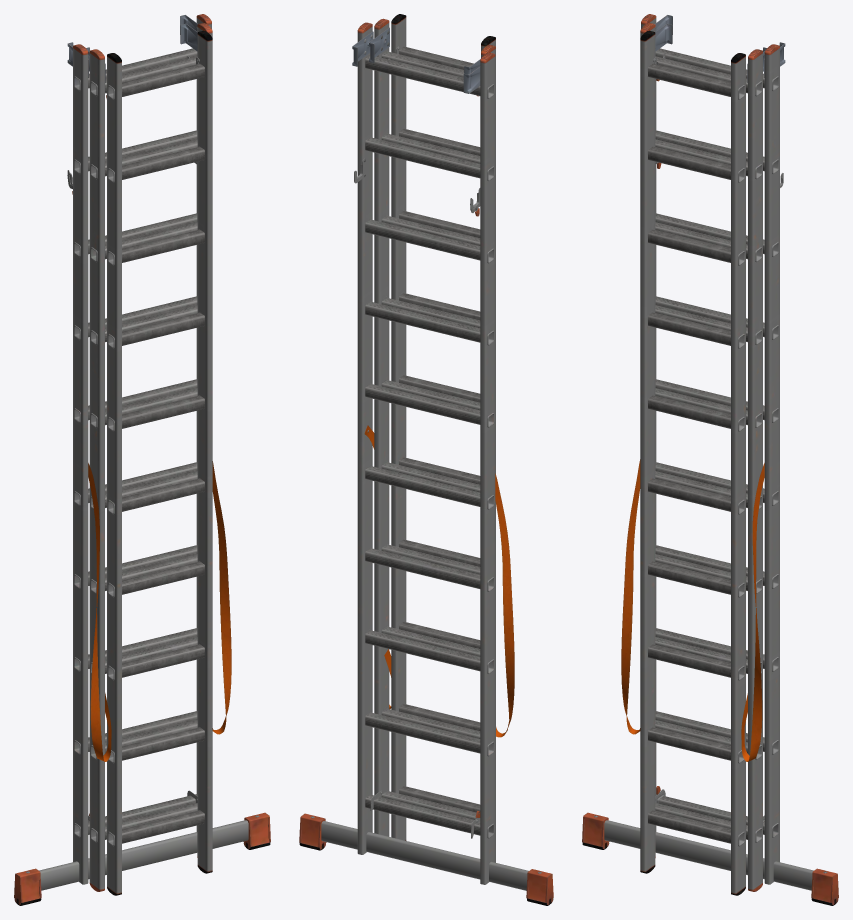
File: ladder_sectioned_01.glb
3 views of the same model, side by side, from view 1: azimuth 30°, elevation 25°; view 2: azimuth 150°, elevation 25°; view 3: azimuth 330°, elevation 25° (orthographic).
Parts seen in each view (by area): view 1: ladder_section_03, ladder_section_01, ladder_section_02, ladder_ribbon; view 2: ladder_section_01, ladder_section_02, ladder_section_03, ladder_ribbon; view 3: ladder_section_03, ladder_section_01, ladder_section_02, ladder_ribbon.
Boxes of the visible parts, box(x1,y1,x2,y2) form: ladder_section_03: box(106, 30, 212, 895); ladder_section_01: box(14, 14, 270, 905); ladder_section_02: box(86, 23, 212, 891); ladder_ribbon: box(88, 461, 231, 761); ladder_section_01: box(299, 22, 553, 905); ladder_section_02: box(369, 18, 495, 862); ladder_section_03: box(388, 14, 495, 840); ladder_ribbon: box(364, 425, 514, 737); ladder_section_03: box(640, 30, 745, 895); ladder_section_01: box(582, 14, 838, 905); ladder_section_02: box(640, 23, 766, 891); ladder_ribbon: box(621, 459, 764, 761).
Bounding box in the file's own units: 0.6614 × 2.13 × 0.1775.
1 material, 1 textured.
